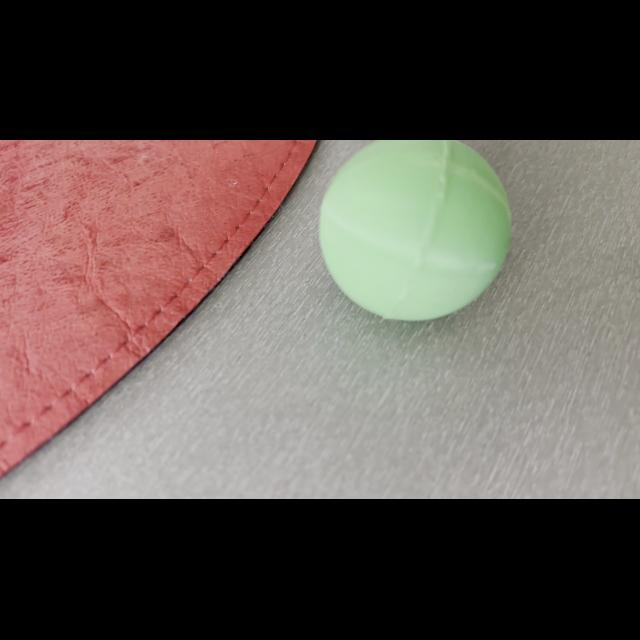objects: (314, 140, 518, 326)
